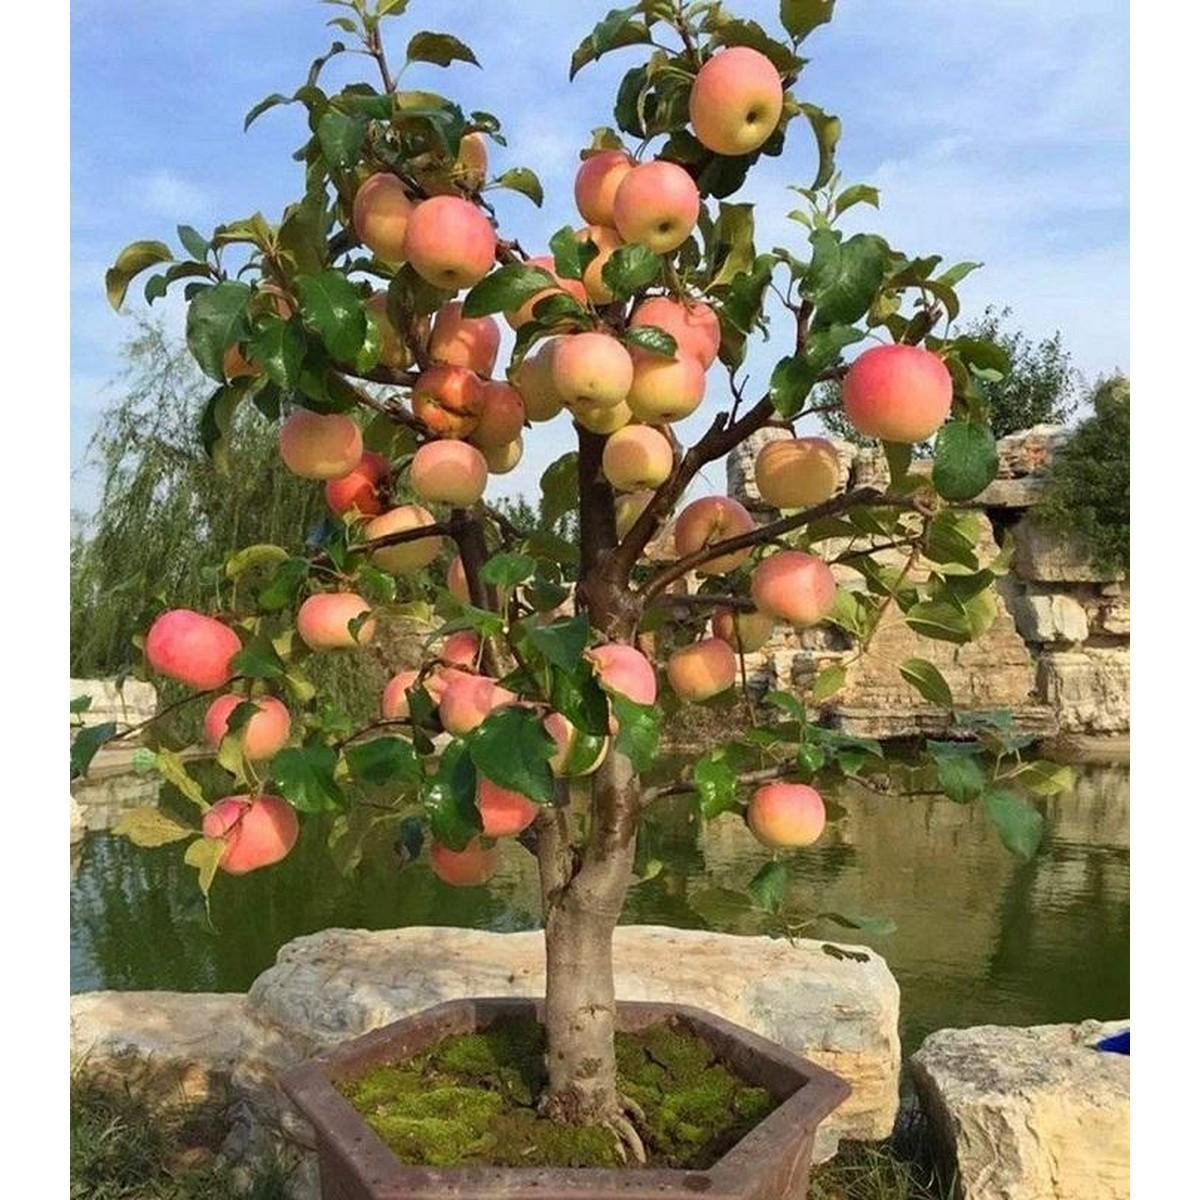apple: (841, 343, 952, 442), (574, 148, 678, 248), (690, 48, 786, 153), (404, 195, 497, 289), (200, 790, 303, 873), (142, 605, 243, 688), (751, 431, 848, 515), (612, 162, 701, 254), (349, 173, 424, 266), (551, 329, 631, 413), (748, 548, 835, 626), (276, 407, 364, 480), (200, 693, 293, 762), (675, 496, 752, 575), (622, 349, 708, 420), (408, 435, 488, 510), (498, 255, 584, 322), (745, 780, 826, 849), (424, 308, 500, 380), (362, 507, 445, 571), (633, 291, 721, 352), (599, 422, 673, 489), (298, 589, 377, 651), (665, 637, 737, 702), (505, 357, 565, 424), (473, 387, 526, 443), (322, 467, 382, 516)
